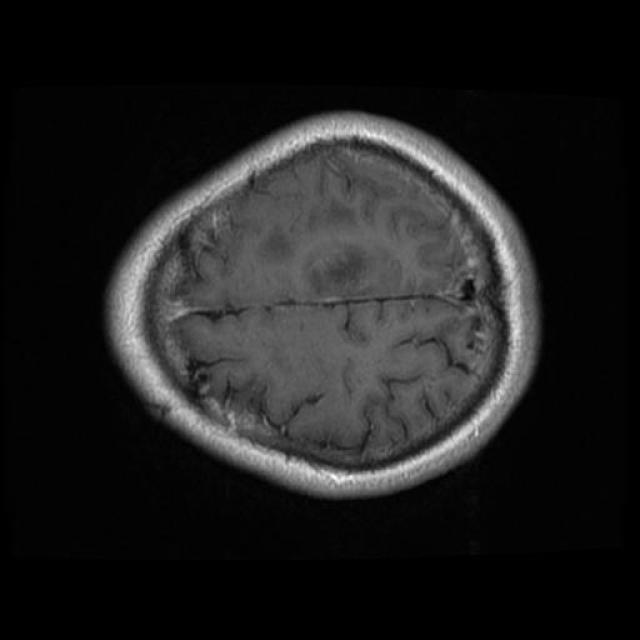Glioma: (308, 243, 373, 297)
